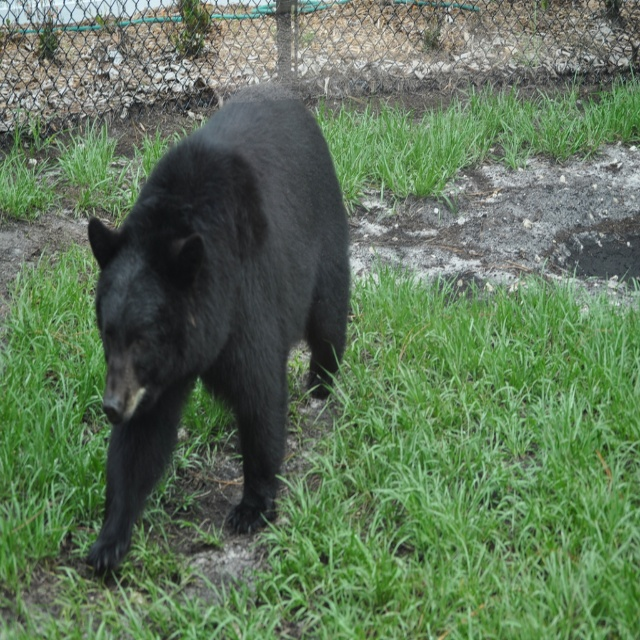Bear: (83, 80, 352, 584)
